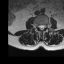CCS_normal: (40, 23, 42, 31)
LFS_normal: (44, 23, 46, 29)
LLS_normal: (42, 23, 44, 30)
RFS_normal: (36, 22, 38, 29)
RLS_normal: (38, 23, 40, 30)
